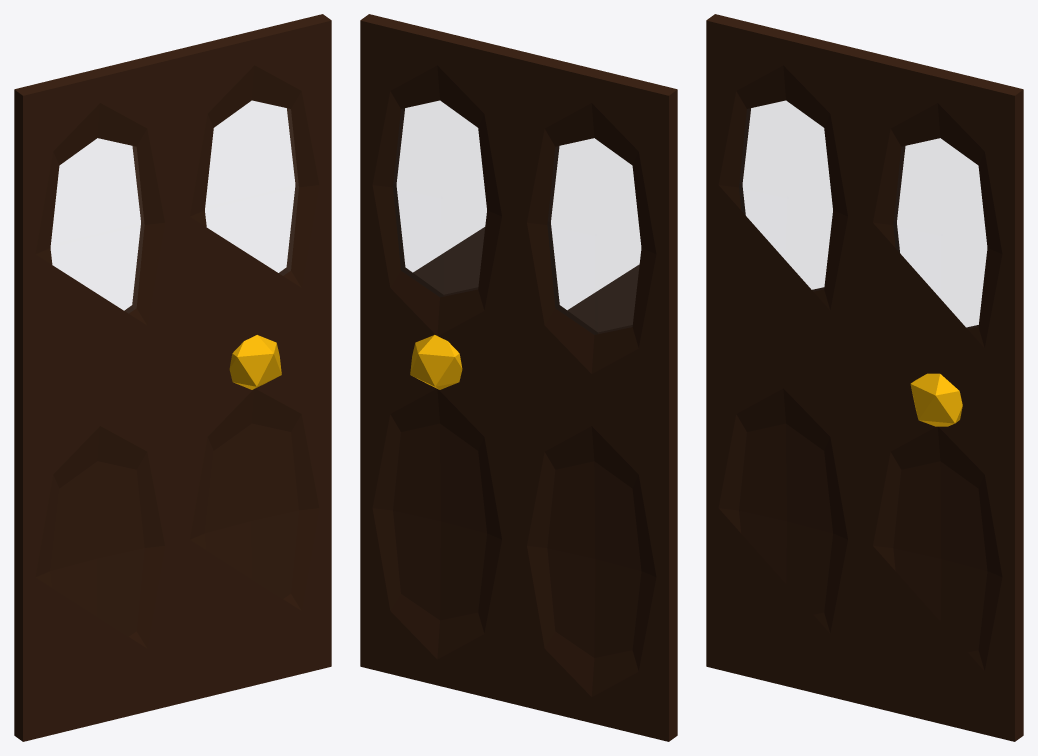
File: TwoWayDoor.fbx
3 renders of one model, left to right at view 1: azimuth 30°, elevation 25°; view 2: azimuth 150°, elevation 25°; view 3: azimuth 330°, elevation 25°, orthographic.
Visible parts, largest first — view 1: Cube.001; view 2: Cube.001; view 3: Cube.001.
Boxes of the visible parts, x1,y1,x2,y2 form: Cube.001: (14,14,331,741); Cube.001: (360,14,677,741); Cube.001: (706,14,1023,741).
Bounding box in the file's own units: 80 × 160 × 13.61.
